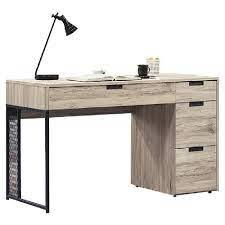desk: (1, 56, 223, 205)
